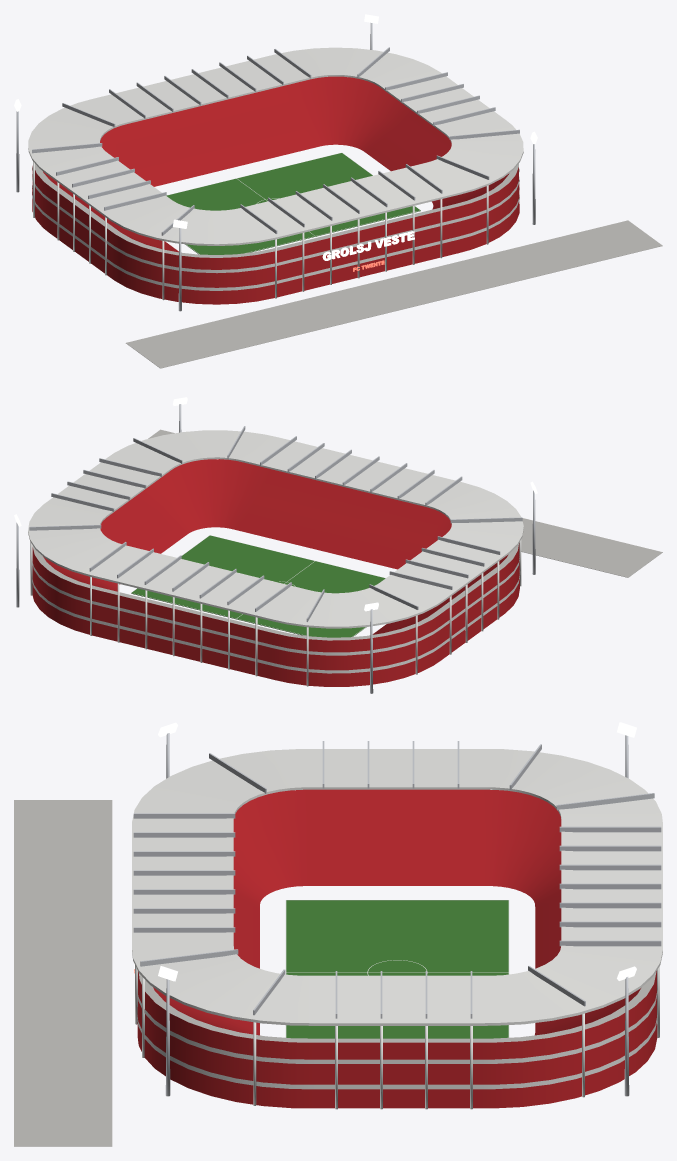
Rendered from lm_veste.glb.
3 views of the same model, one above another, from view 1: azimuth 30°, elevation 25°; view 2: azimuth 150°, elevation 25°; view 3: azimuth 270°, elevation 25° (orthographic). The views are drawn at different scales.
Parts seen in each view (by area): view 1: roof, stands, facade, car_park, pitch, concourse, facade_band1, facade_band2, sign; view 2: roof, stands, facade, pitch, car_park, concourse, facade_band1, facade_band2; view 3: roof, stands, car_park, facade, pitch, concourse, facade_band1, facade_band2, truss14, truss15, truss16, truss17 (+10 smaller).
Boxes of the visible parts, x1,y1,x2,y2 form: roof: [28, 47, 523, 245]; stands: [43, 76, 509, 252]; facade: [32, 166, 519, 304]; car_park: [126, 220, 662, 368]; pitch: [166, 153, 420, 254]; concourse: [35, 163, 518, 257]; facade_band1: [32, 185, 519, 290]; facade_band2: [32, 167, 519, 273]; sign: [322, 231, 414, 260]; roof: [28, 430, 523, 628]; stands: [43, 459, 508, 634]; facade: [32, 543, 519, 686]; pitch: [131, 535, 385, 637]; car_park: [148, 429, 662, 577]; concourse: [32, 543, 518, 640]; facade_band1: [32, 570, 520, 673]; facade_band2: [32, 552, 520, 655]; roof: [132, 749, 662, 1025]; stands: [153, 789, 640, 1035]; car_park: [14, 800, 112, 1146]; facade: [137, 971, 657, 1108]; pitch: [286, 900, 508, 1038]; concourse: [139, 972, 656, 1042]; facade_band1: [137, 1015, 657, 1089]; facade_band2: [137, 989, 657, 1063]; truss14: [559, 940, 661, 946]; truss15: [559, 921, 661, 927]; truss16: [559, 902, 661, 908]; truss17: [559, 883, 661, 889].
Bounding box in the file's own units: 250 × 42.7 × 198.
